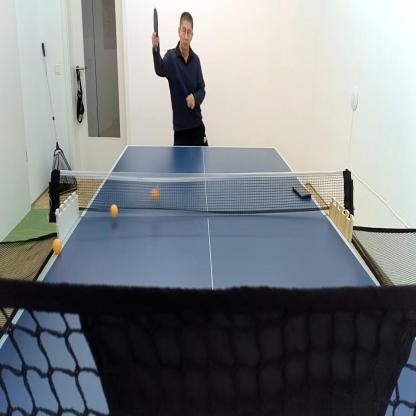Ball: (52, 237, 62, 254), (150, 186, 159, 203), (110, 203, 118, 218)
